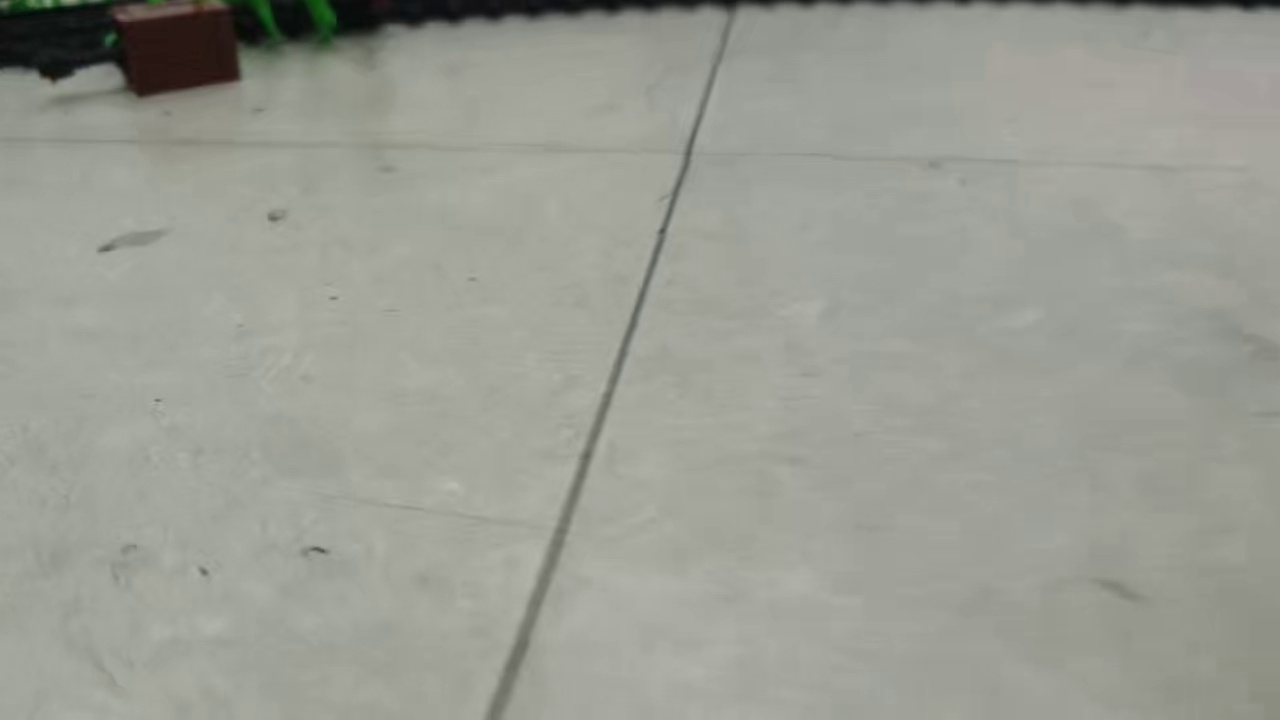box: (110, 1, 245, 100)
